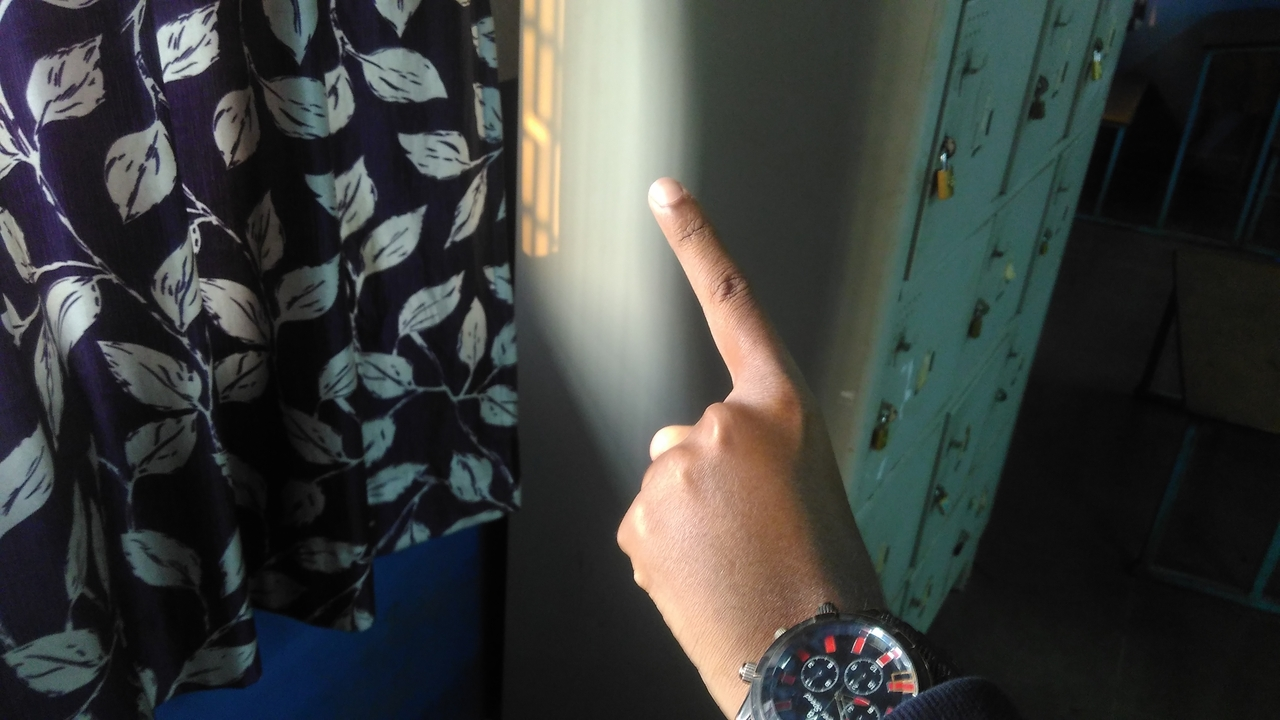fingertip: (636, 170, 696, 224)
